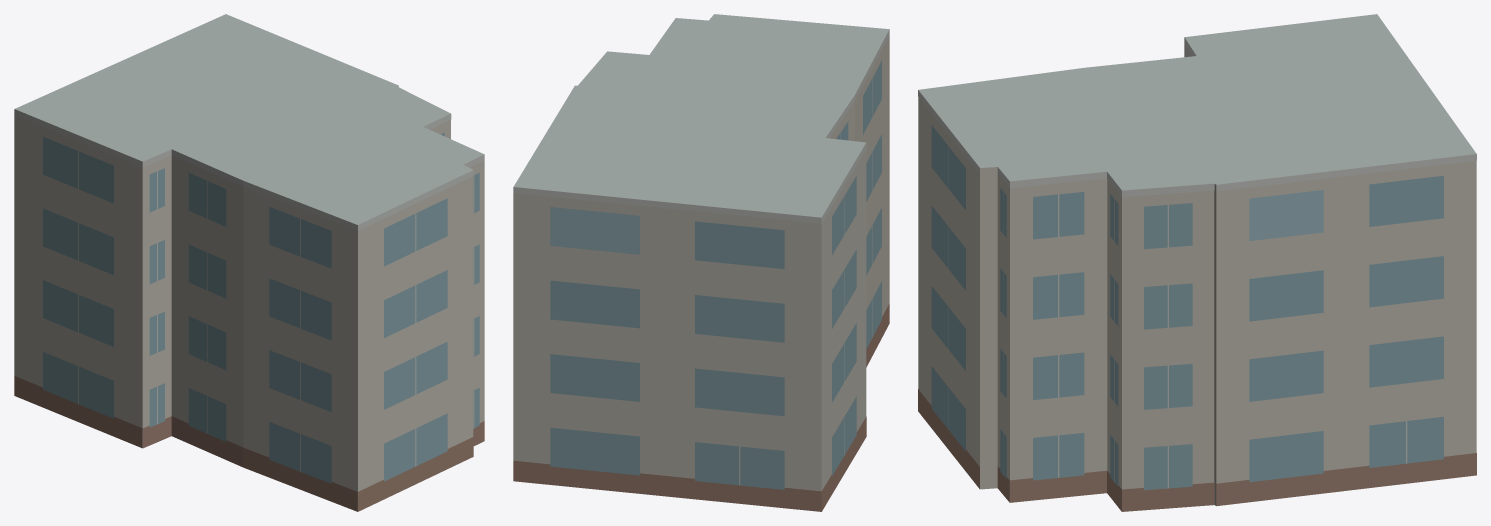
Rendered from survey-upis-32917095.glb.
The picture shows the model from 3 angles, left to right: view 1: azimuth 30°, elevation 25°; view 2: azimuth 150°, elevation 25°; view 3: azimuth 270°, elevation 25°; orthographic projection. The views are drawn at different scales.
Visible parts, largest first — view 1: survey-upis-32917095.tmp; view 2: survey-upis-32917095.tmp; view 3: survey-upis-32917095.tmp.
Part boxes in pixels (bbox=[...]): survey-upis-32917095.tmp: bbox=[14, 14, 484, 511]; survey-upis-32917095.tmp: bbox=[513, 14, 889, 511]; survey-upis-32917095.tmp: bbox=[918, 14, 1476, 511].
Bounding box in the file's own units: 13.79 × 11.7 × 18.44.
